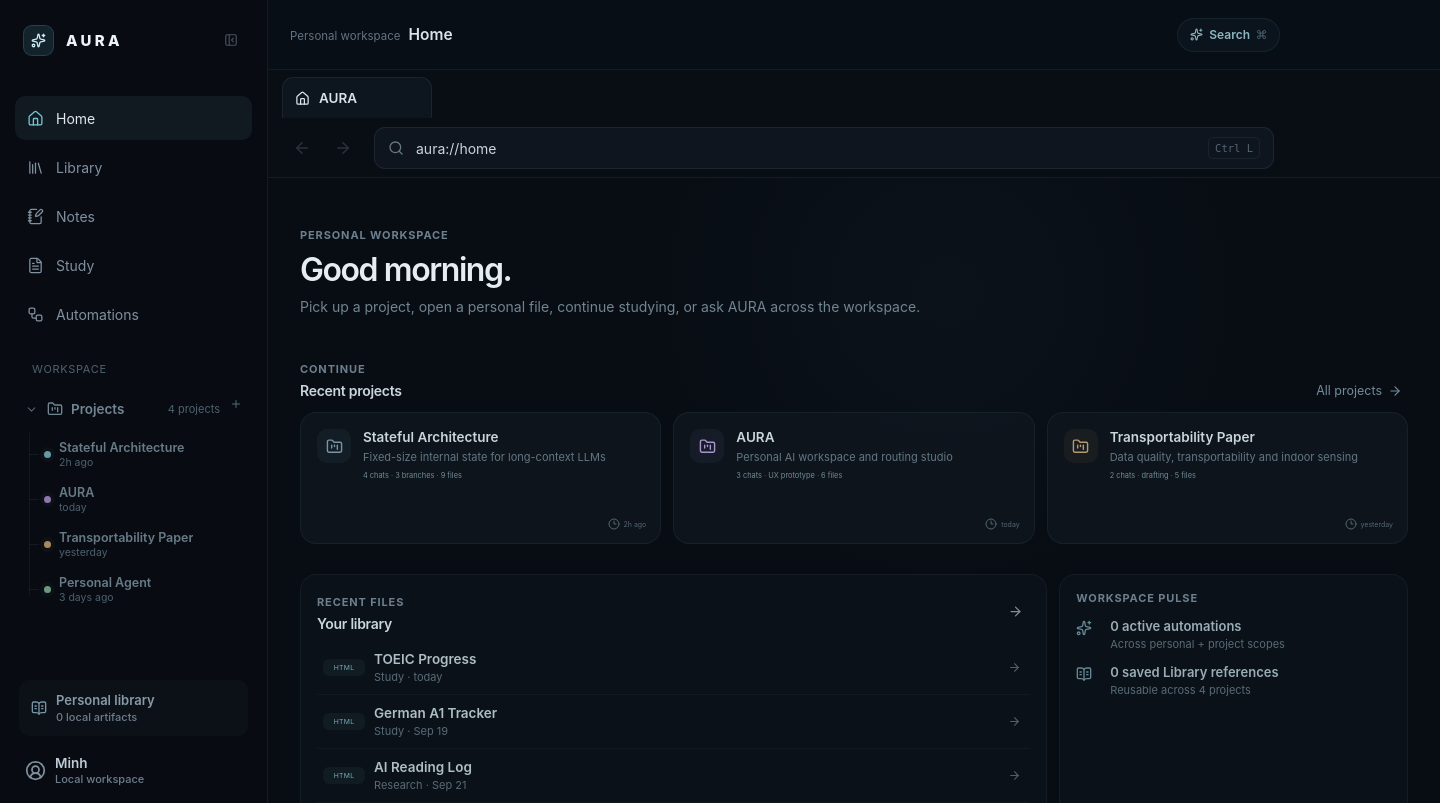
Navigation and Workspace Shell Invariants › loads later pages from the backend workspace search
Replace the text in the field with placeholder "Search files, projects, chats, notes or enter a URL…" with "matching phrase" at point(806, 148), box left=414, top=138, right=1198, bottom=158
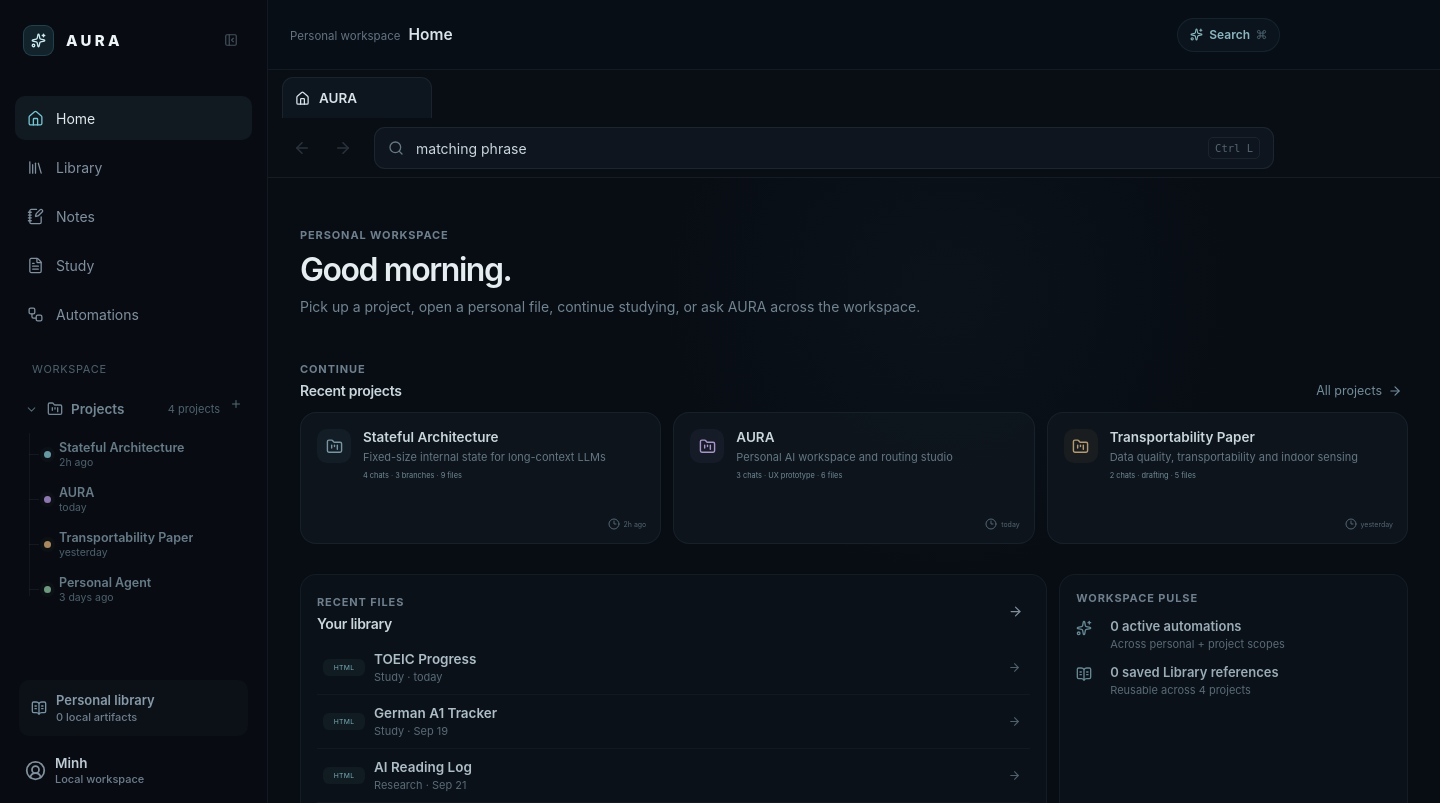
Submit the form with placeholder "Search files, projects", box left=374, top=127, right=1274, bottom=169
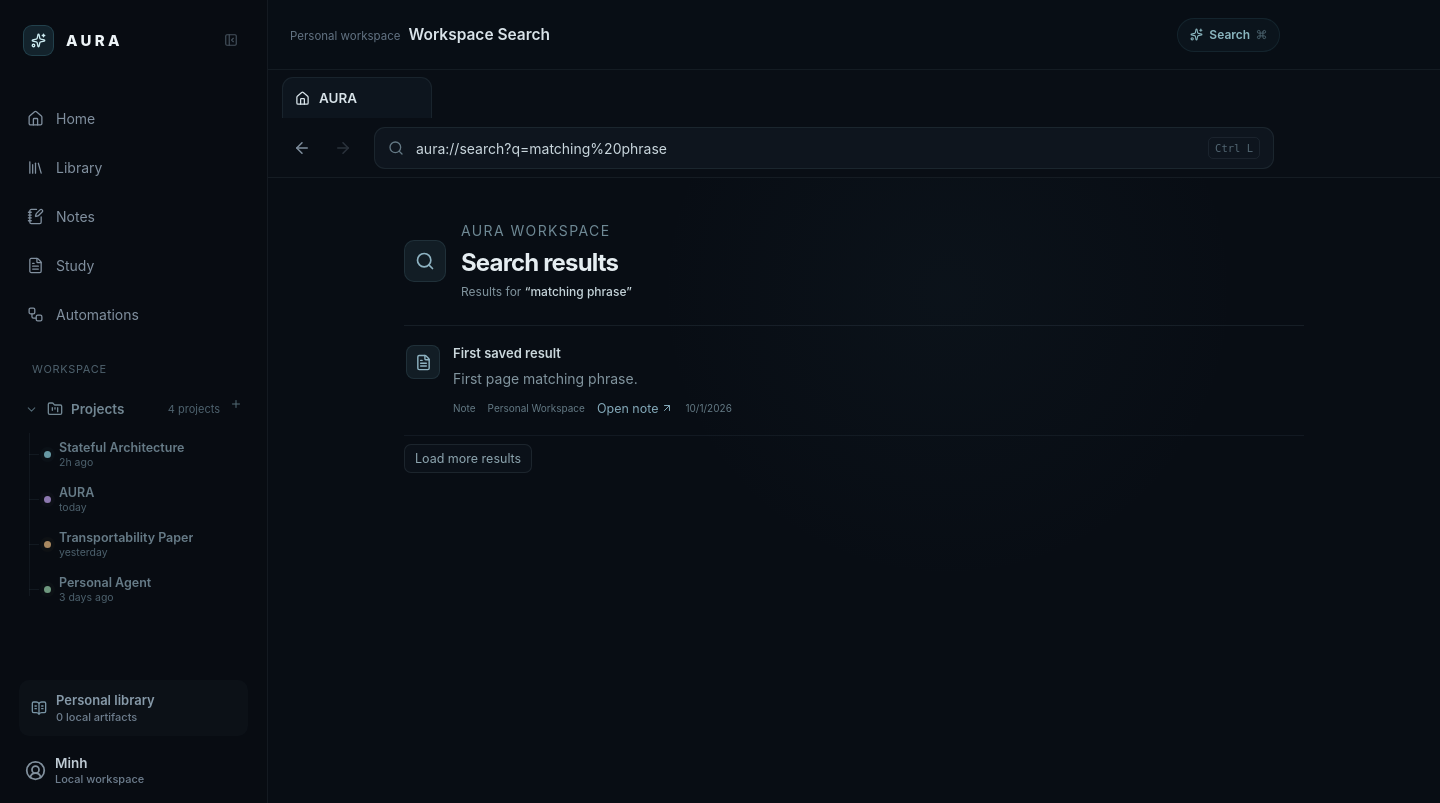
expect the heading "First saved result" is shown: met, box left=453, top=345, right=561, bottom=361
Click the button "Load more results".
click(468, 458)  # box left=404, top=444, right=532, bottom=473
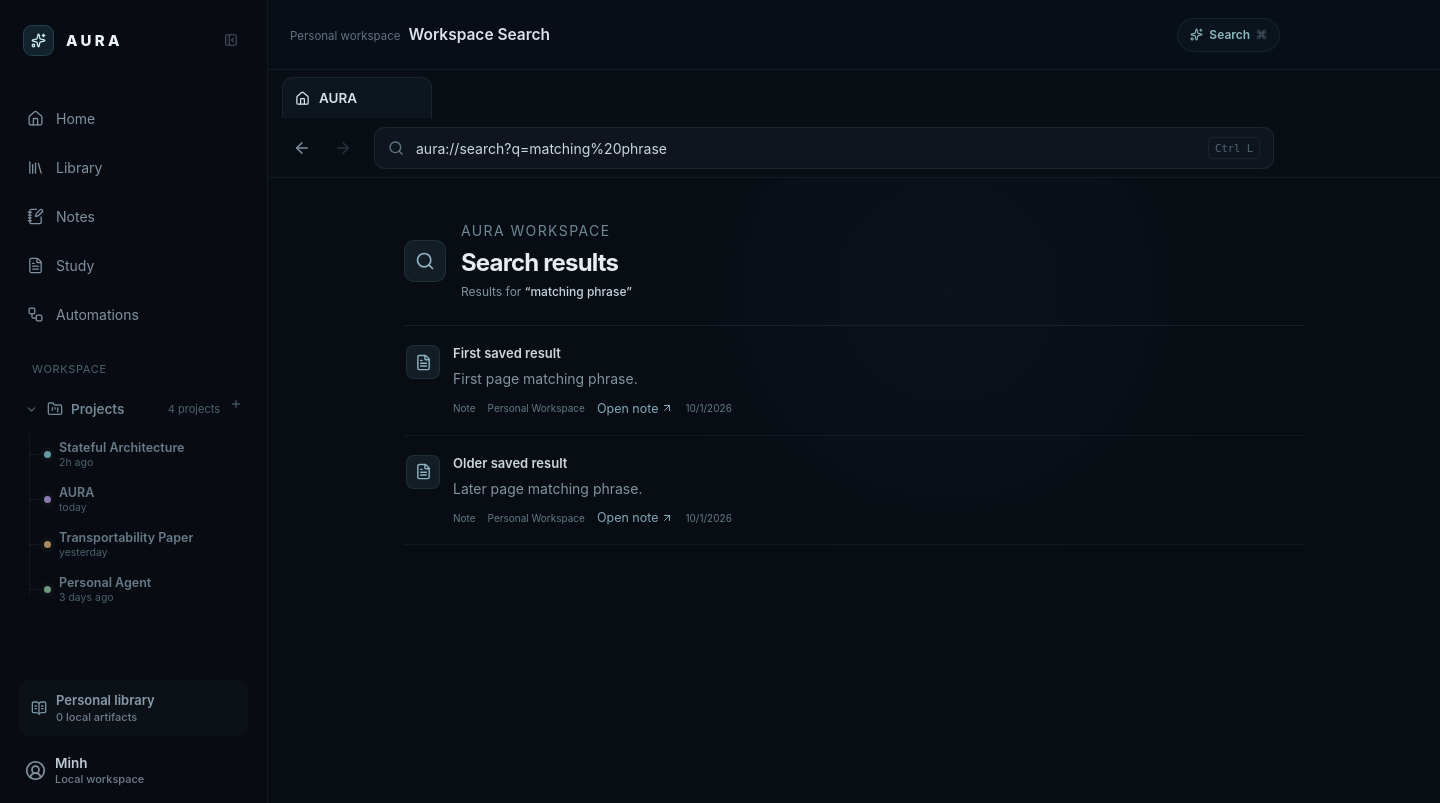
expect the heading "First saved result" is shown: met, box left=453, top=345, right=561, bottom=361
expect the heading "Older saved result" is shown: met, box left=453, top=455, right=567, bottom=471
